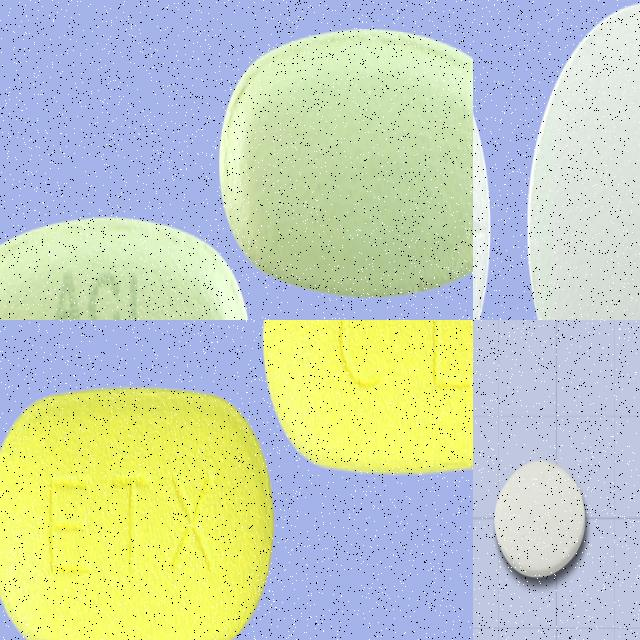CLARITYNE: (493, 453, 588, 584)
Ciflo: (522, 0, 640, 320)
Clarosin: (0, 386, 276, 640), (260, 320, 473, 477)
Clorid: (218, 28, 473, 300), (0, 218, 253, 320)
